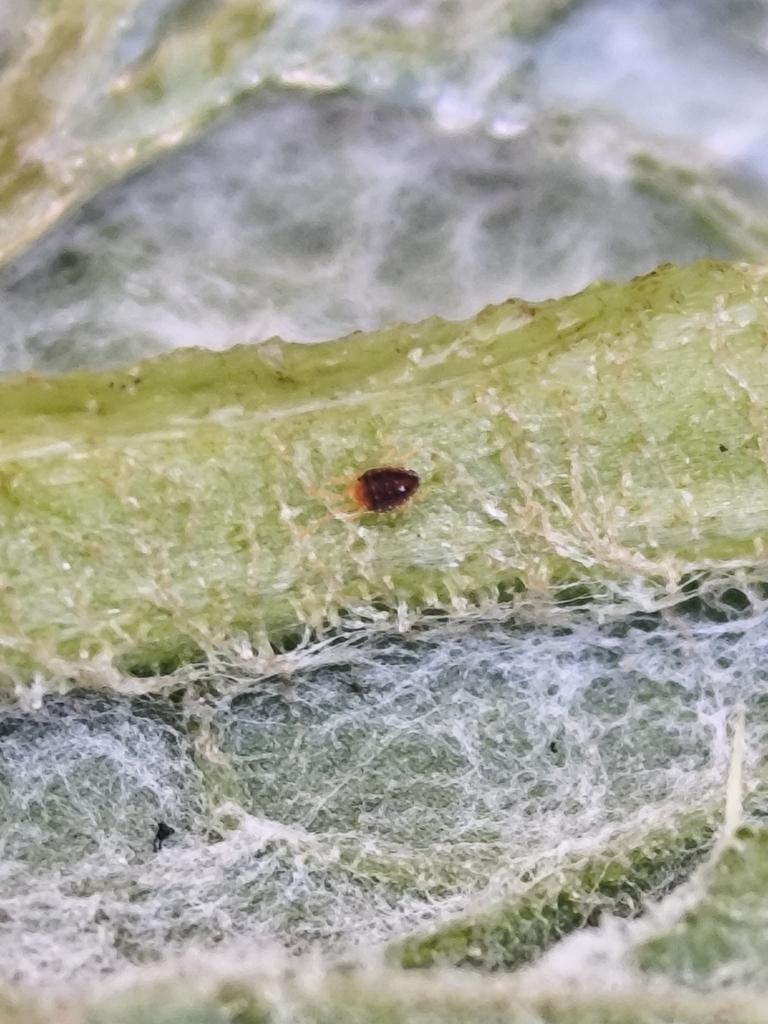tiny_pests: (291, 419, 451, 556)
